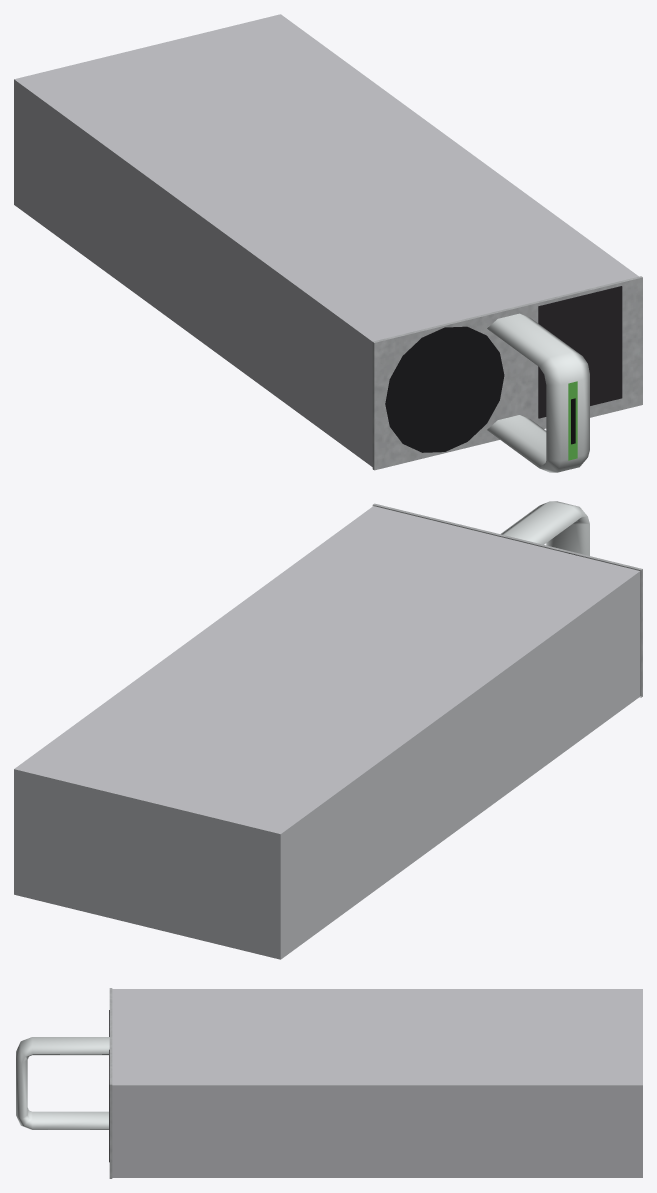
Rendered from DELL-PSU-86MM-2400W.far.glb.
3 views of the same model, one above another, from view 1: azimuth 30°, elevation 25°; view 2: azimuth 150°, elevation 25°; view 3: azimuth 270°, elevation 25° (orthographic). The views are drawn at different scales.
Parts seen in each view (by area): view 1: PSU_Handle_far; view 2: PSU_Handle_far; view 3: PSU_Handle_far.
Boxes of the visible parts, box(x1,y1,x2,y2) form: PSU_Handle_far: box(14, 14, 642, 472); PSU_Handle_far: box(14, 501, 642, 959); PSU_Handle_far: box(16, 988, 642, 1178).
Size of the model in its own units: 0.086 by 0.039 by 0.2362.
3 materials, 2 textured.
